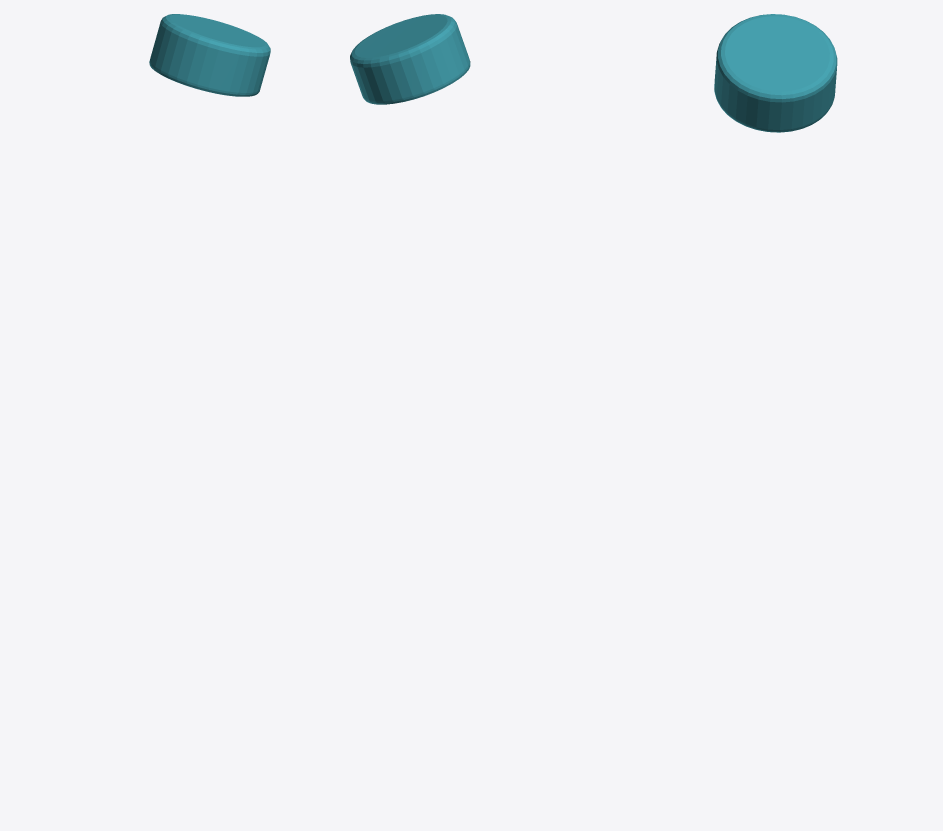
The model's file is bend_medium_1.obj.
3 renders of one model, left to right at view 1: azimuth 30°, elevation 25°; view 2: azimuth 150°, elevation 25°; view 3: azimuth 270°, elevation 25°, orthographic. The views are drawn at different scales.
Visible parts, largest first — view 1: model; view 2: model; view 3: model.
Boxes of the visible parts, bbox=[...] form: model: bbox=[149, 14, 270, 96]; model: bbox=[350, 14, 470, 104]; model: bbox=[714, 14, 837, 132].
Size of the model in its own units: 0.0849 by 0.2536 by 0.0844.
Materials: 1 (1 with a texture image).
